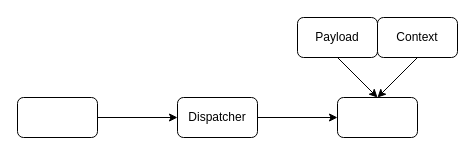
The diagram is 475 pixels wide and 155 high, and some of its shapes have lost their labels. Each missing label, with the centre of its shape:
"Handler" goes at (x=377, y=117).
"Transport" goes at (x=57, y=117).
